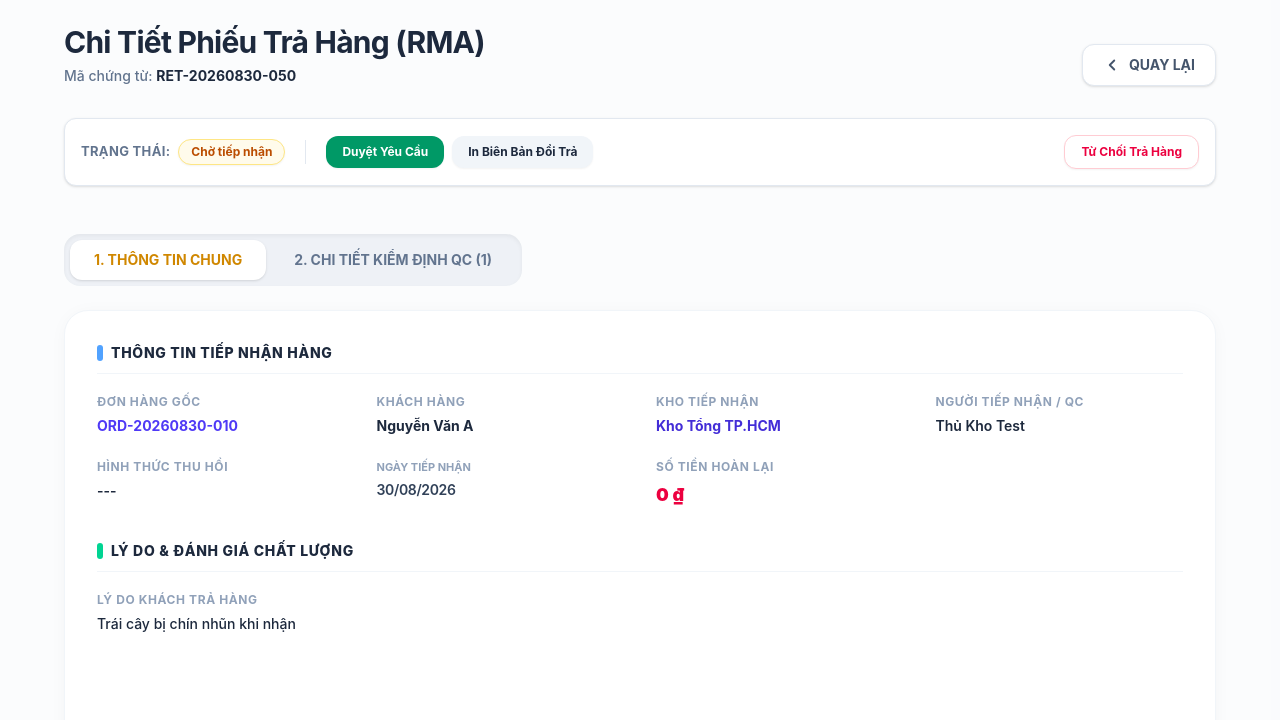
Test: Module 13 - CustomerReturnDetail Component › TC02 - Chuyển sang tab Mặt hàng trả và hiển thị đầy đủ danh sách sản phẩm và lô hàng
Expected: the text "RET-20260830-050" is shown, [156,67,296,84]
Click the button "2. CHI TIẾT KIỂM ĐỊNH QC (1)".
click(393, 260)  # box [270,240,516,280]
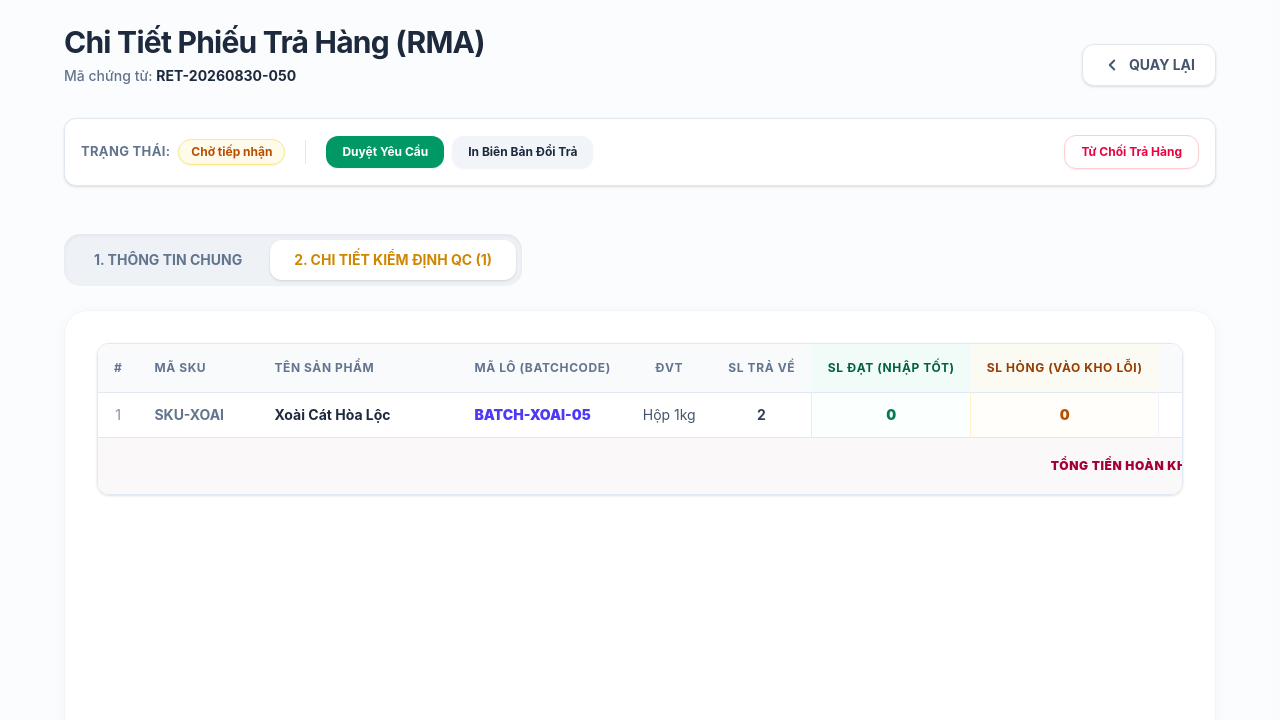
Expected: the text "Xoài Cát Hòa Lộc" is shown, [258,392,458,438]
Expected: the text "BATCH-XOAI-05" is shown, [458,392,627,438]
